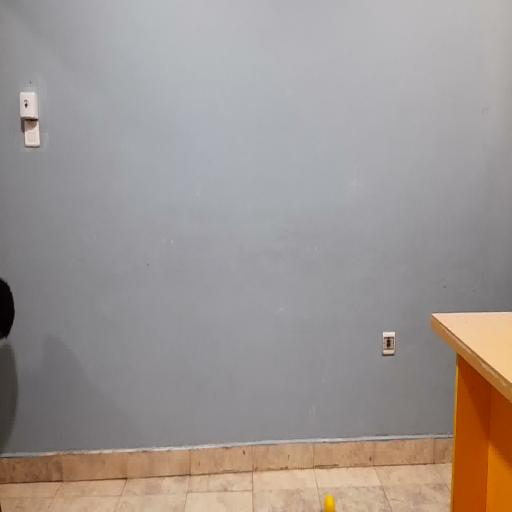plastic-ball: (324, 495, 334, 511)
